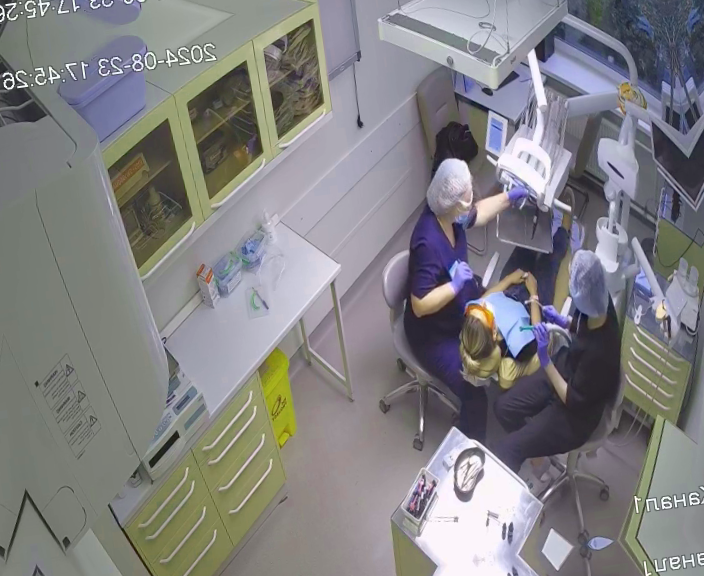Patient: (425, 192, 606, 394)
